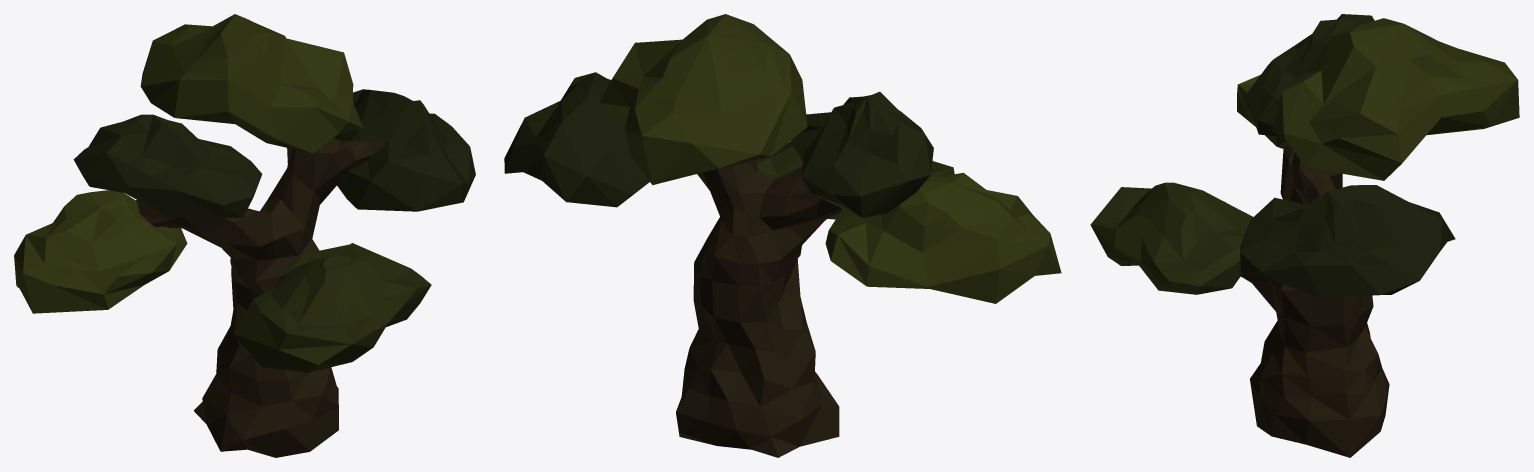
The model's file is Tree.fbx.
3 views of the same model, side by side, from view 1: azimuth 30°, elevation 25°; view 2: azimuth 150°, elevation 25°; view 3: azimuth 270°, elevation 25° (orthographic). The views are drawn at different scales.
Visible parts, largest first — view 1: Tree1_05_both:polySurface1; view 2: Tree1_05_both:polySurface1; view 3: Tree1_05_both:polySurface1.
Part boxes in pixels (box(x1,y1,x2,y2)): Tree1_05_both:polySurface1: box(14, 14, 475, 457); Tree1_05_both:polySurface1: box(504, 14, 1061, 457); Tree1_05_both:polySurface1: box(1090, 14, 1519, 457).
Size of the model in its own units: 8.13 by 6.72 by 6.41.
